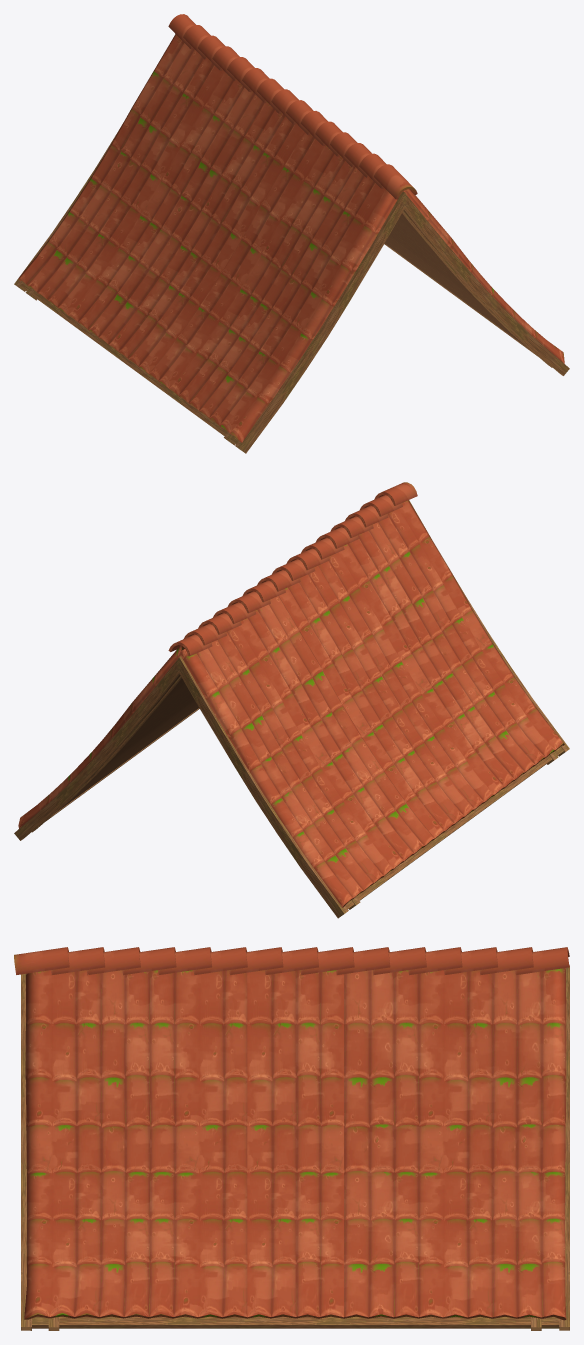
The model's file is Roof_RoundTiles_8x10.glb.
3 views of the same model, one above another, from view 1: azimuth 30°, elevation 25°; view 2: azimuth 150°, elevation 25°; view 3: azimuth 270°, elevation 25° (orthographic). The views are drawn at different scales.
Visible parts, largest first — view 1: Roof_RoundTiles_8x10; view 2: Roof_RoundTiles_8x10; view 3: Roof_RoundTiles_8x10.
Boxes of the visible parts, box(x1,y1,x2,y2) form: Roof_RoundTiles_8x10: box(14, 14, 569, 453); Roof_RoundTiles_8x10: box(14, 482, 569, 918); Roof_RoundTiles_8x10: box(14, 947, 569, 1330).
Bounding box in the file's own units: 9.95 × 6.78 × 11.86.
Materials: 2 (2 with a texture image).
